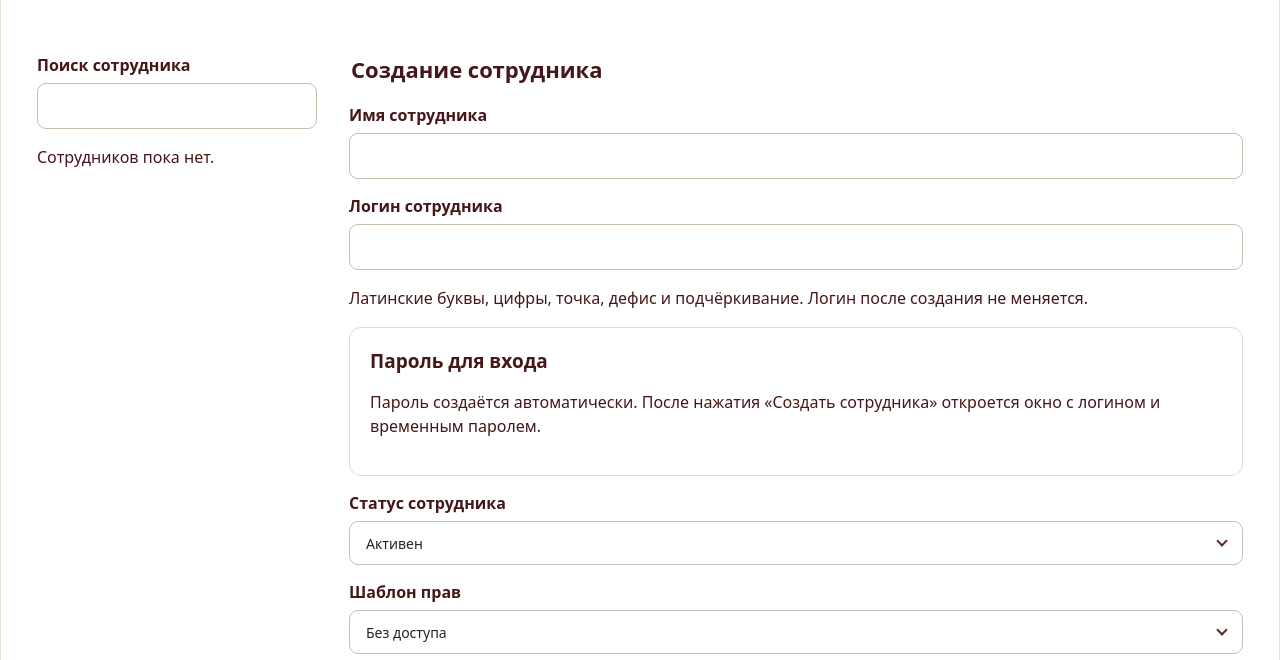
it: owner can apply a preset, override one permission, and create an employee with a one-time password
This screenshot has width=1280, height=660.
Expected: the text "Сотрудников пока нет." is shown, x1=37 y1=146 x2=214 y2=168
Type "Анна" into the field labelled "Имя сотрудника" at (796, 156), box x1=349 y1=133 x2=1243 y2=179
Type "anna" into the field labelled "Логин сотрудника" at (796, 247), box x1=349 y1=224 x2=1243 y2=270
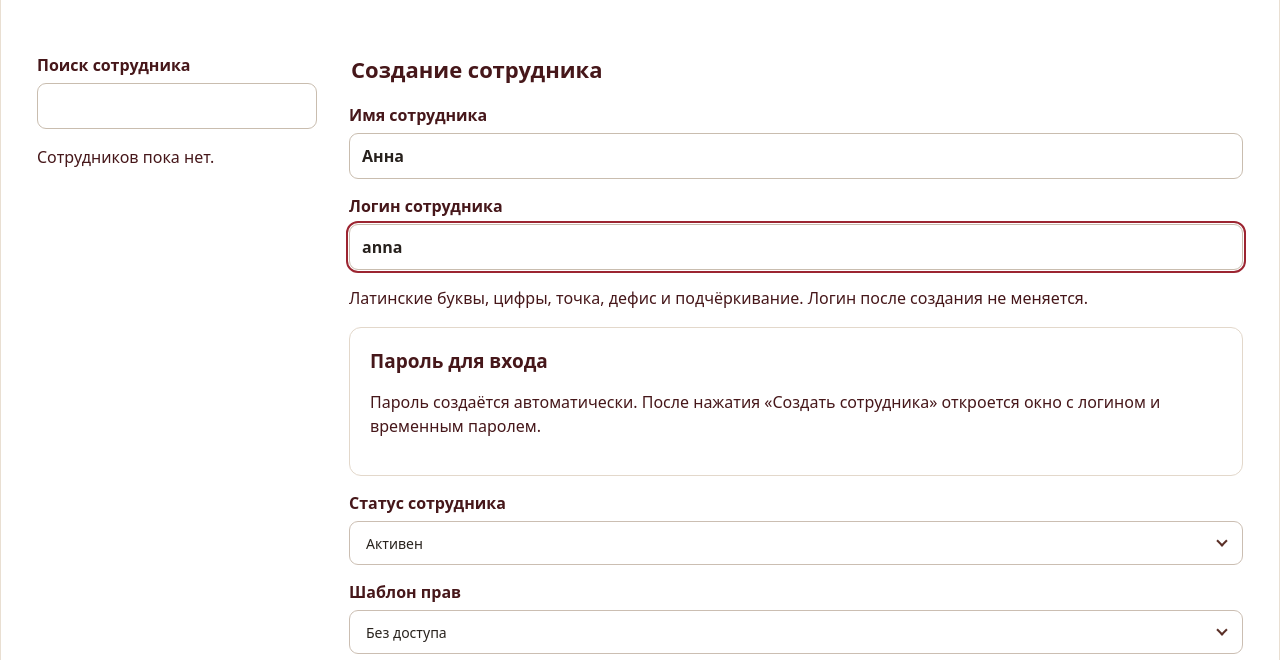
Click the dropdown named "Шаблон прав" at (406, 632), box x1=349 y1=610 x2=1243 y2=654
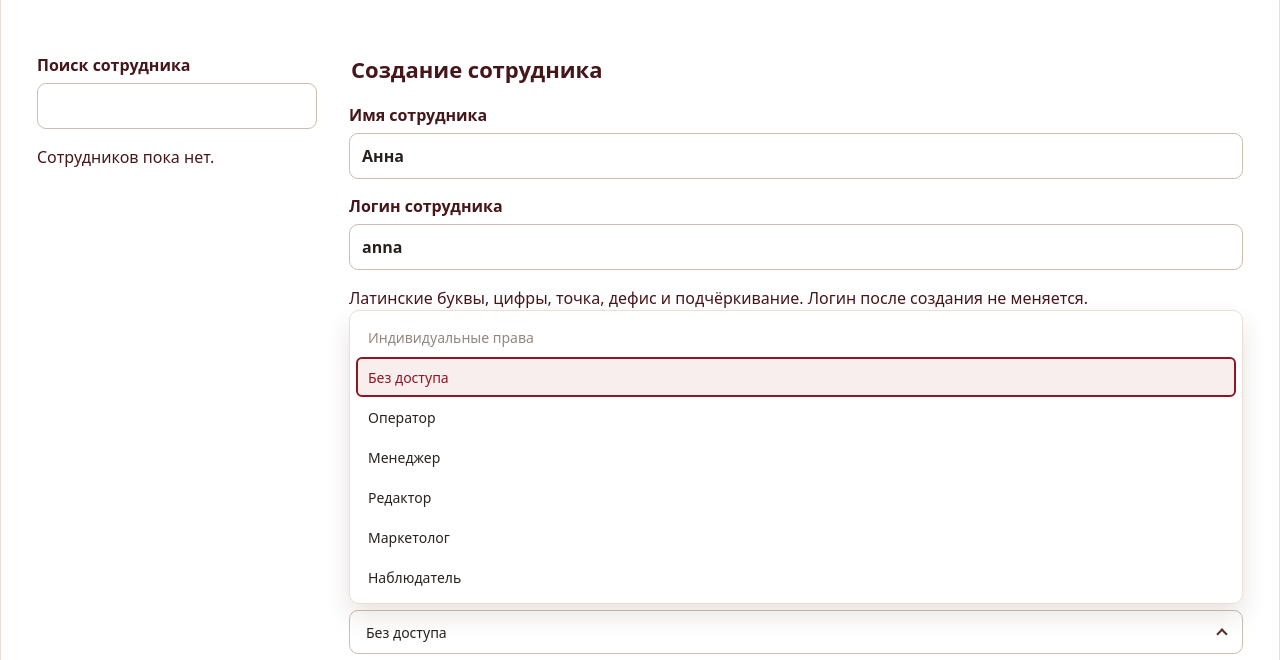
Click the option "Оператор" at (402, 417), box x1=356 y1=397 x2=1236 y2=437
(page scrolled)
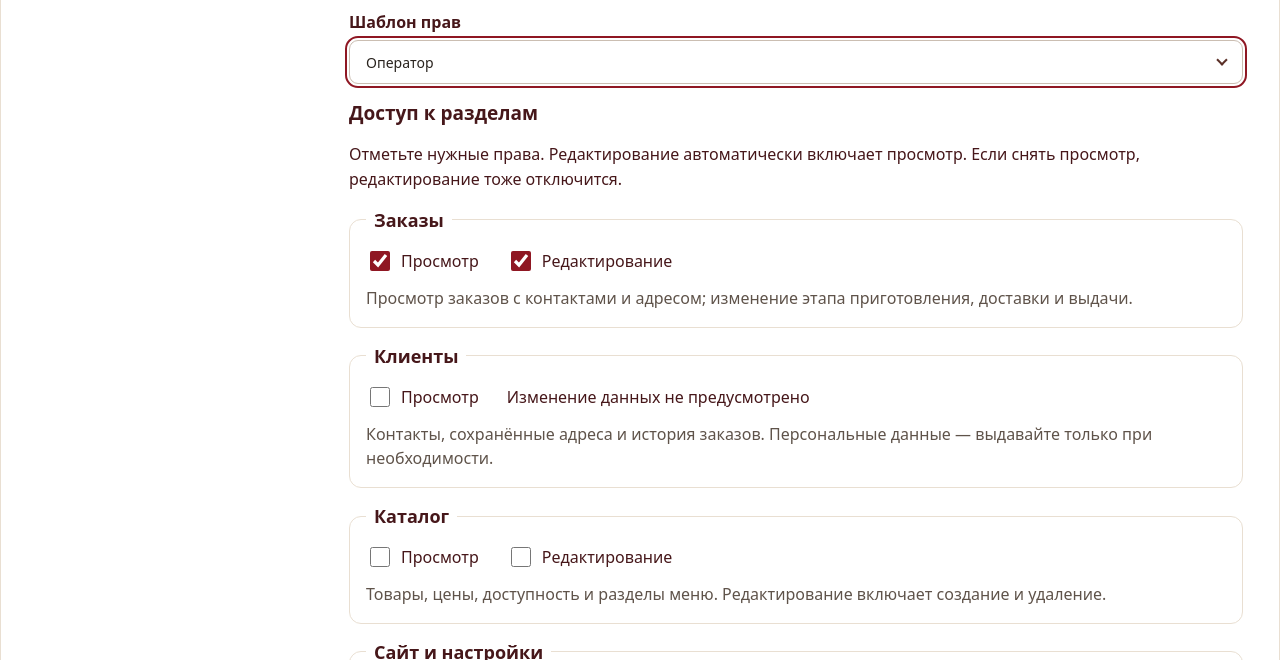
Expected: the checkbox named "Заказы: редактирование" is checked
Click the checkbox named "Заказы: редактирование" at (521, 261), box x1=511 y1=251 x2=531 y2=271
(page scrolled)
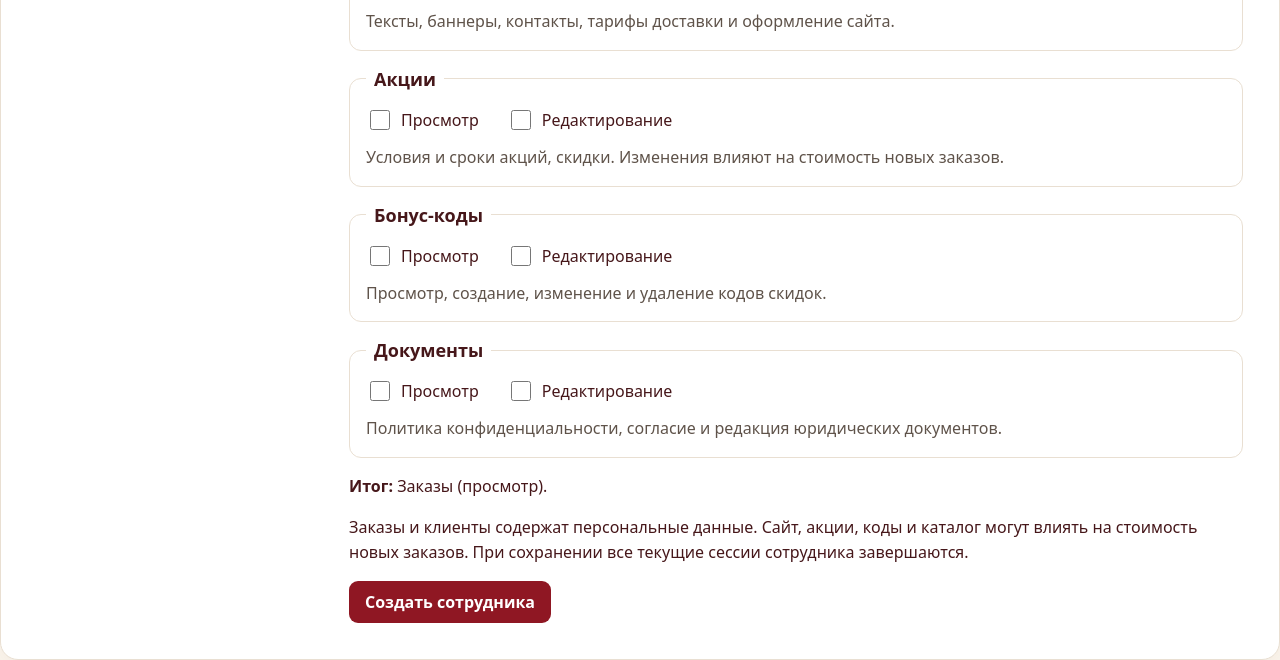
Click the button "Создать сотрудника" at (450, 602), box x1=349 y1=580 x2=551 y2=622
(page scrolled)
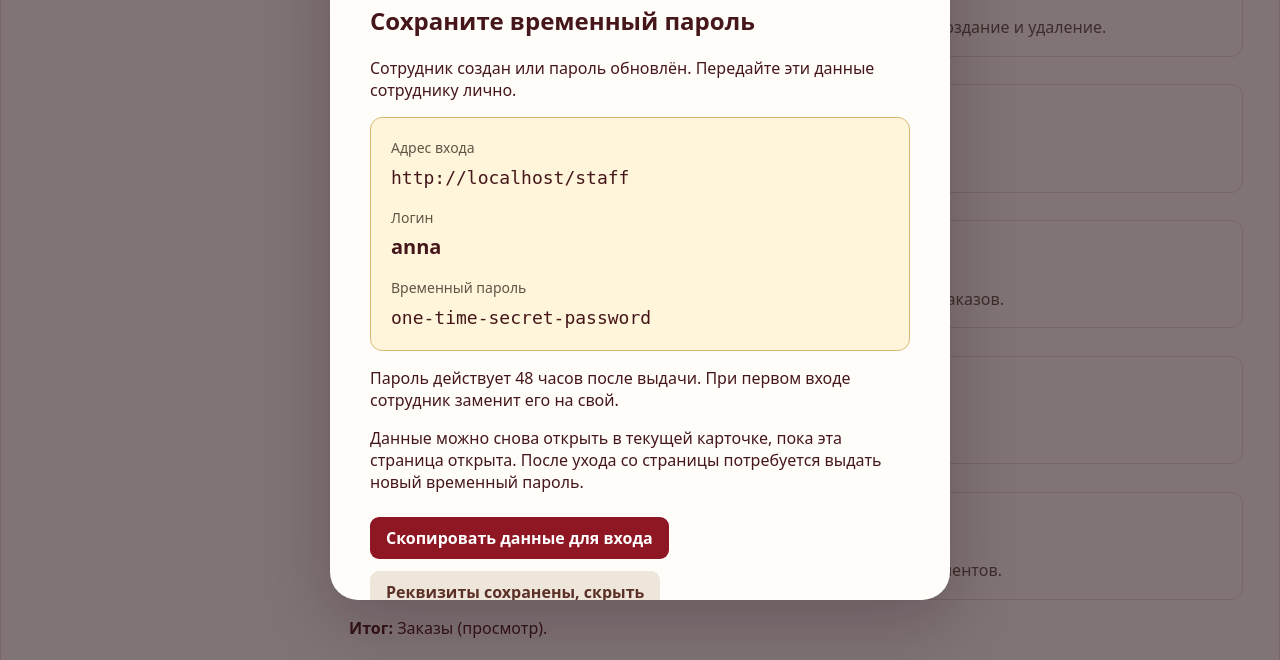
Expected: the text "one-time-secret-password" is shown, x1=391 y1=307 x2=651 y2=328
Click the button "Реквизиты сохранены, скрыть" at (515, 592), box x1=370 y1=571 x2=660 y2=613
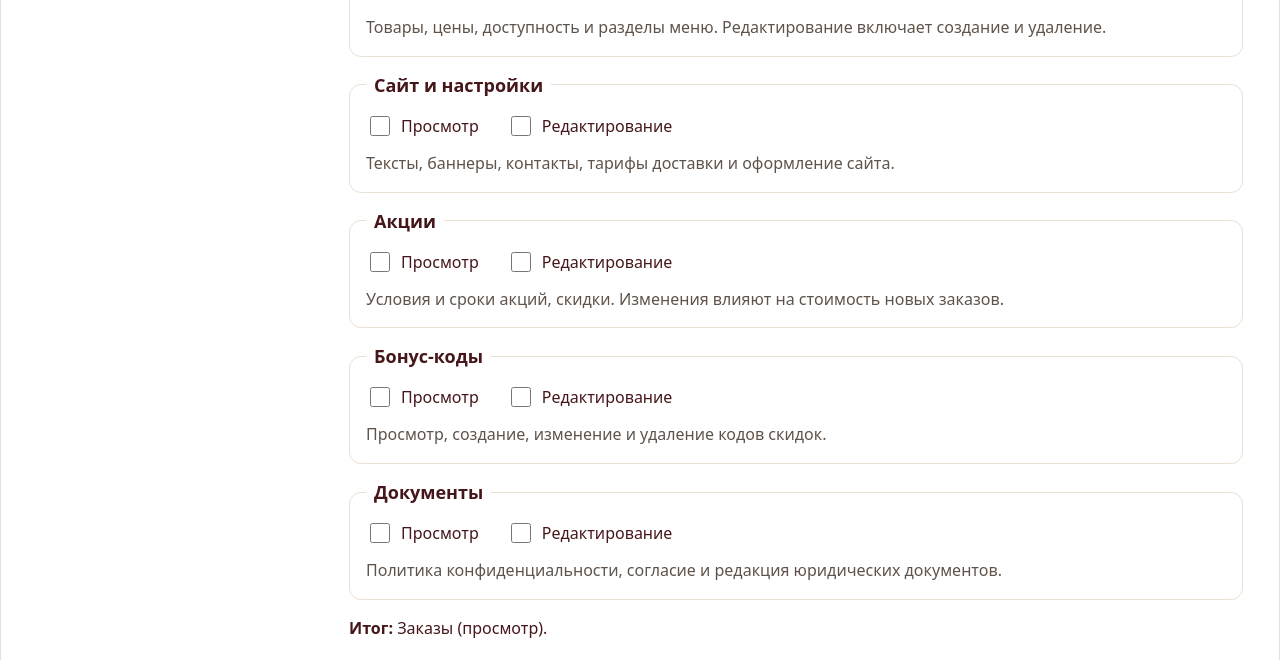
Expected: the text "one-time-secret-password" is gone
